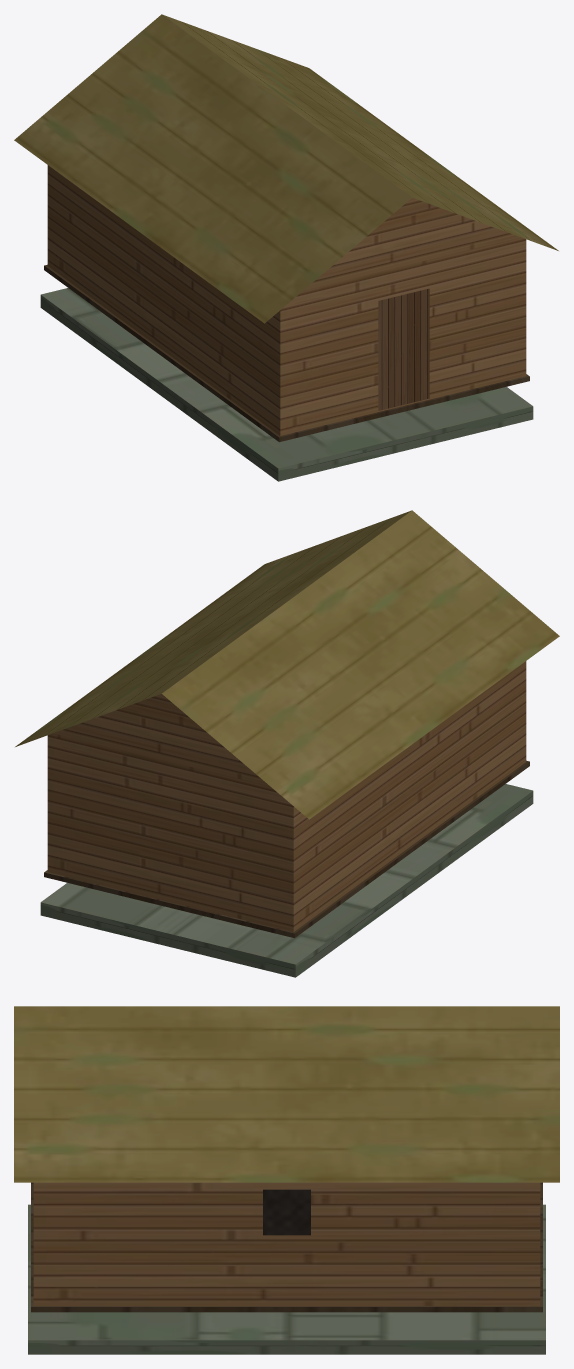
The model's file is ae_jungle_wood_large_hall_lod2.glb.
3 renders of one model, top to bottom at view 1: azimuth 30°, elevation 25°; view 2: azimuth 150°, elevation 25°; view 3: azimuth 270°, elevation 25°, orthographic. The views are drawn at different scales.
Parts seen in each view (by area): view 1: ae_jungle_wood_large_hall_lod2; view 2: ae_jungle_wood_large_hall_lod2; view 3: ae_jungle_wood_large_hall_lod2.
Boxes of the visible parts, left/top/right/bottom form: ae_jungle_wood_large_hall_lod2: left=14, top=14, right=558, bottom=481; ae_jungle_wood_large_hall_lod2: left=15, top=510, right=559, bottom=977; ae_jungle_wood_large_hall_lod2: left=14, top=1006, right=559, bottom=1354.
Size of the model in its own units: 6.6 by 5.5 by 9.7.
1 material, 1 textured.
